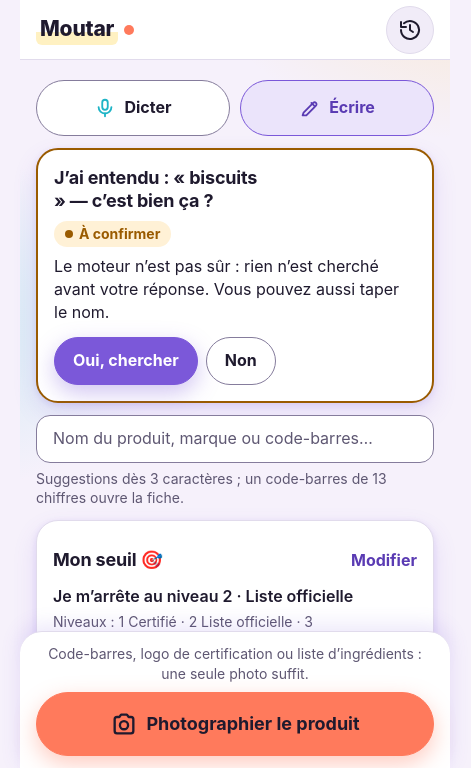
Test: AccueilPage — dictée incertaine › « Oui, chercher » confirme : le texte va au champ, qui lance la recherche
What coordinates should you click on to do the following:
click the button "Oui, chercher"
I would click on:
 (126, 360)
Its box is [54,336,198,384].
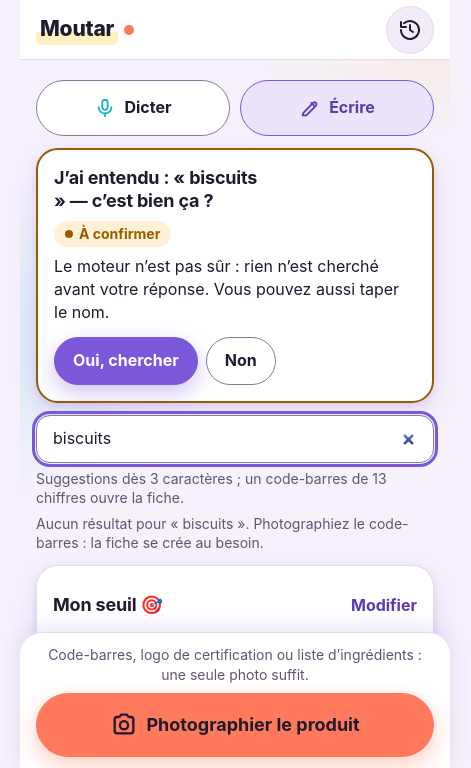
Now the dropdown holds "biscuits", box [36,414,434,462]
